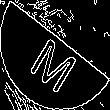M_NE: (26, 21, 84, 89)
